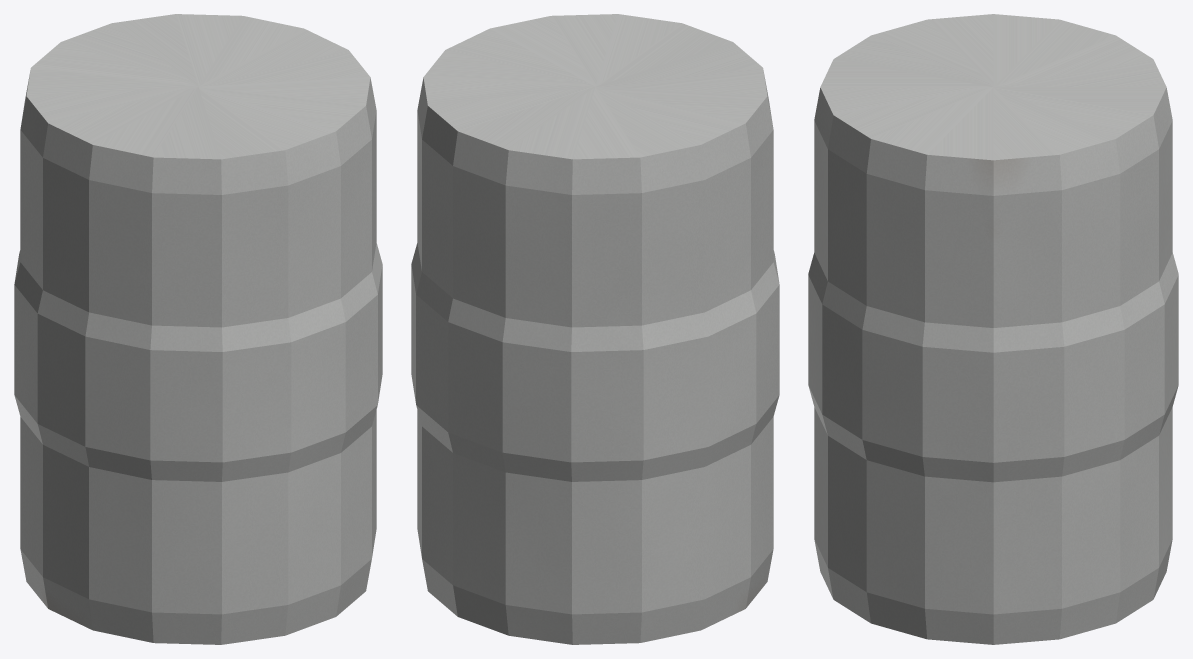
Rendered from drum.gltf.
3 renders of one model, left to right at view 1: azimuth 30°, elevation 25°; view 2: azimuth 150°, elevation 25°; view 3: azimuth 270°, elevation 25°, orthographic.
Visible parts, largest first — view 1: jx_drum; view 2: jx_drum; view 3: jx_drum.
Part boxes in pixels (x1=…): jx_drum: x1=14, y1=14, x2=382, y2=644; jx_drum: x1=411, y1=14, x2=779, y2=644; jx_drum: x1=808, y1=14, x2=1178, y2=644.
Bounding box in the file's own units: 0.61 × 0.88 × 0.61.
Materials: 1 (1 with a texture image).
